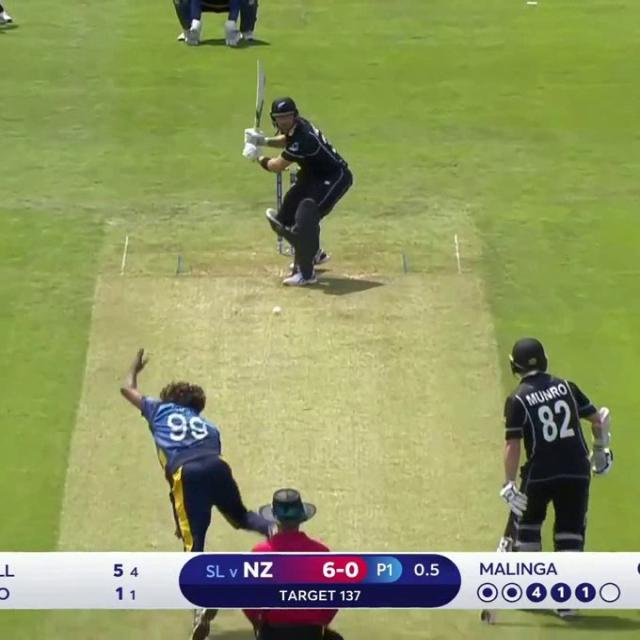bat: (253, 60, 265, 129), (495, 536, 515, 553), (481, 608, 496, 626)
